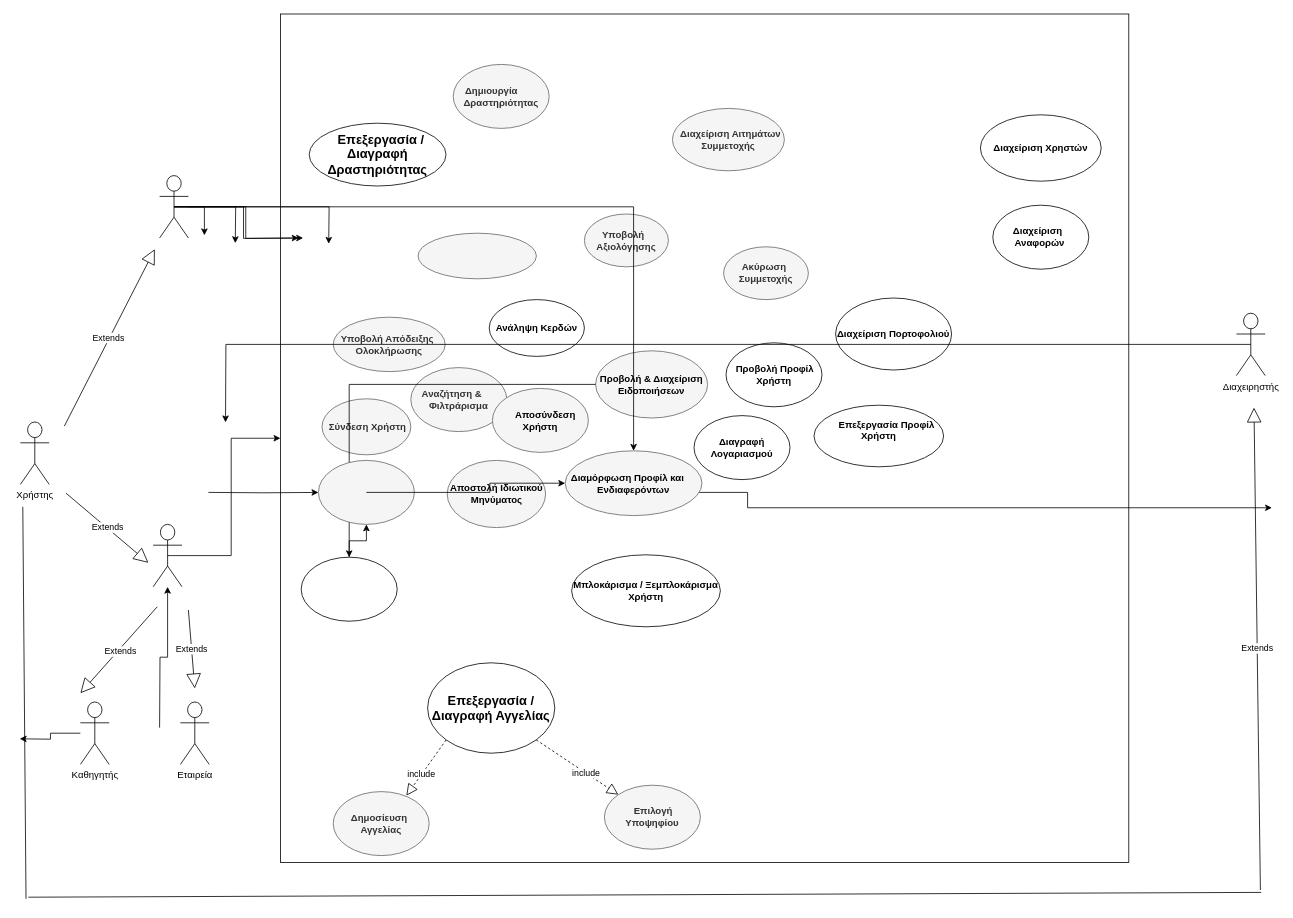
Some shapes in this 1293 by 918 pixel diagram are drawn without their labels. The centre of each missing label's shape, as x and y in pixels:
Αίτηση Συμμετοχής: [476,255]
Αποδέσμευση Πληρωμής: [348,588]
Εγγραφή / Επαλήθευση Χρήστη: [366,492]
Εργοδότης: [167,555]
Φοιτητής: [173,206]
